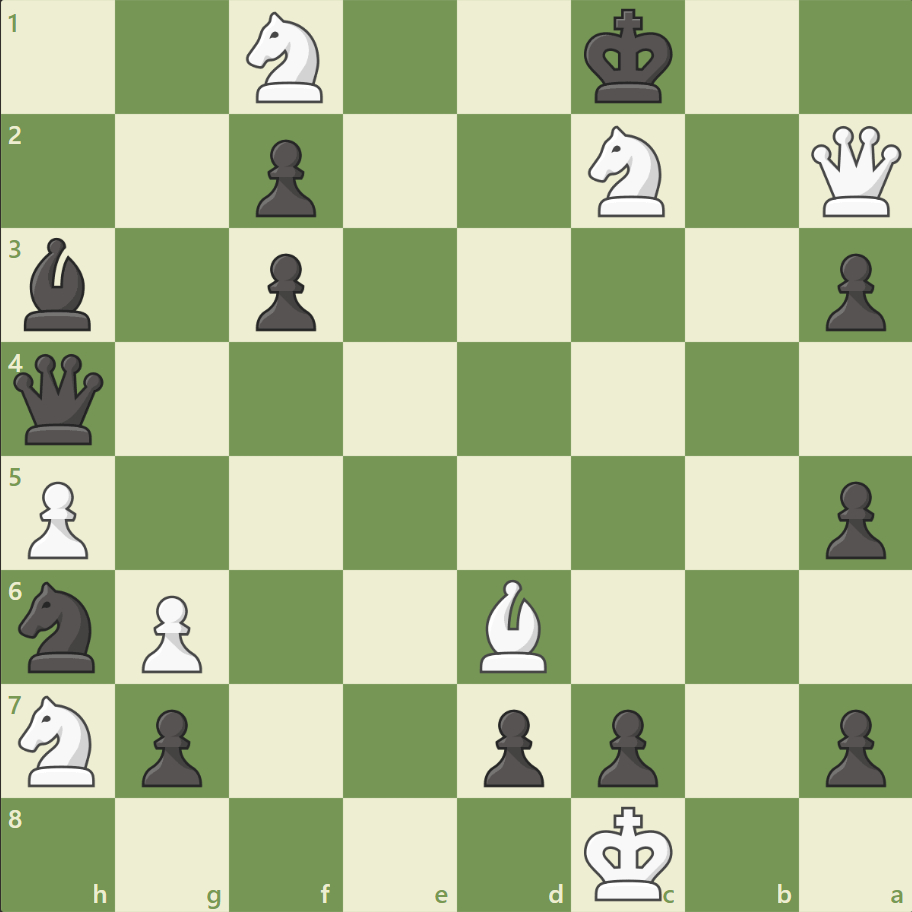B: (471, 574, 555, 676)
K: (579, 798, 679, 906)
N: (11, 688, 108, 791), (238, 7, 335, 110), (579, 121, 676, 223)
P: (133, 586, 208, 677), (20, 473, 95, 564)
Q: (805, 122, 904, 222)
b: (17, 233, 101, 336)
k: (579, 4, 679, 112)
n: (11, 575, 108, 677)
p: (474, 700, 549, 791), (133, 700, 208, 791), (247, 246, 322, 337), (247, 132, 322, 223), (815, 700, 889, 791), (588, 700, 662, 791), (815, 473, 889, 564), (815, 246, 889, 337)
q: (10, 349, 109, 449)
